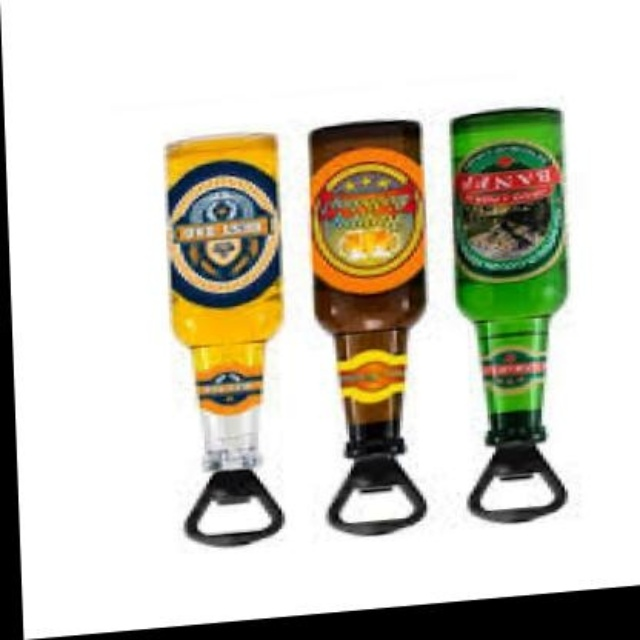trash: (166, 134, 282, 545), (452, 109, 566, 522), (311, 122, 425, 534)
